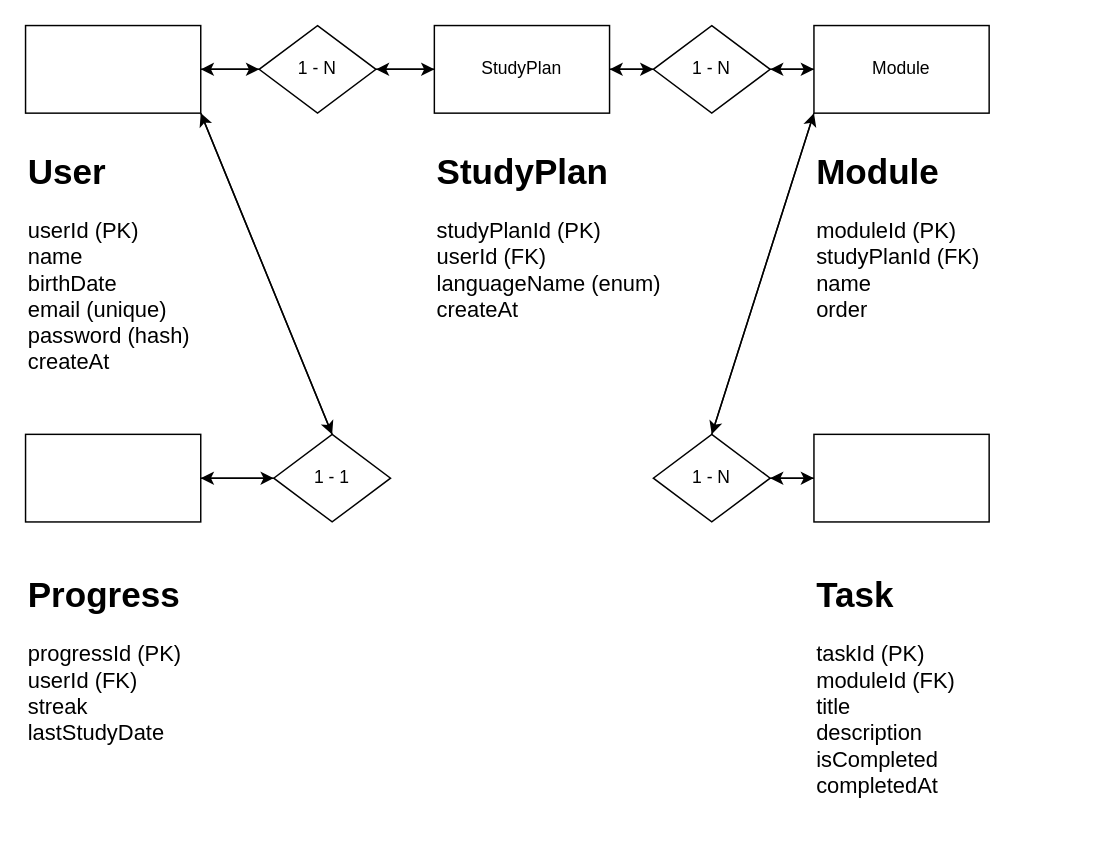
Image size: 1102x844. Some labels were removed from this diagram. Each missing label, with the centre of its shape:
"Progress" belongs at point 112,477.
"Task" belongs at point 900,477.
"User" belongs at point 112,68.
